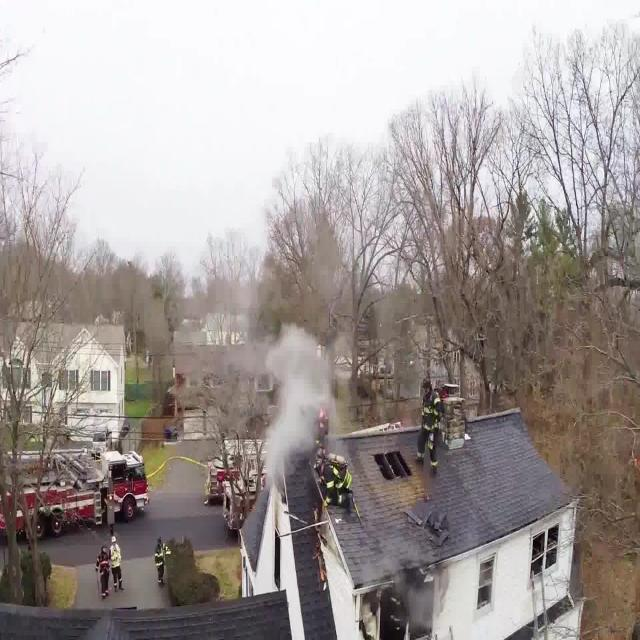Smoke: (260, 322, 329, 502)
